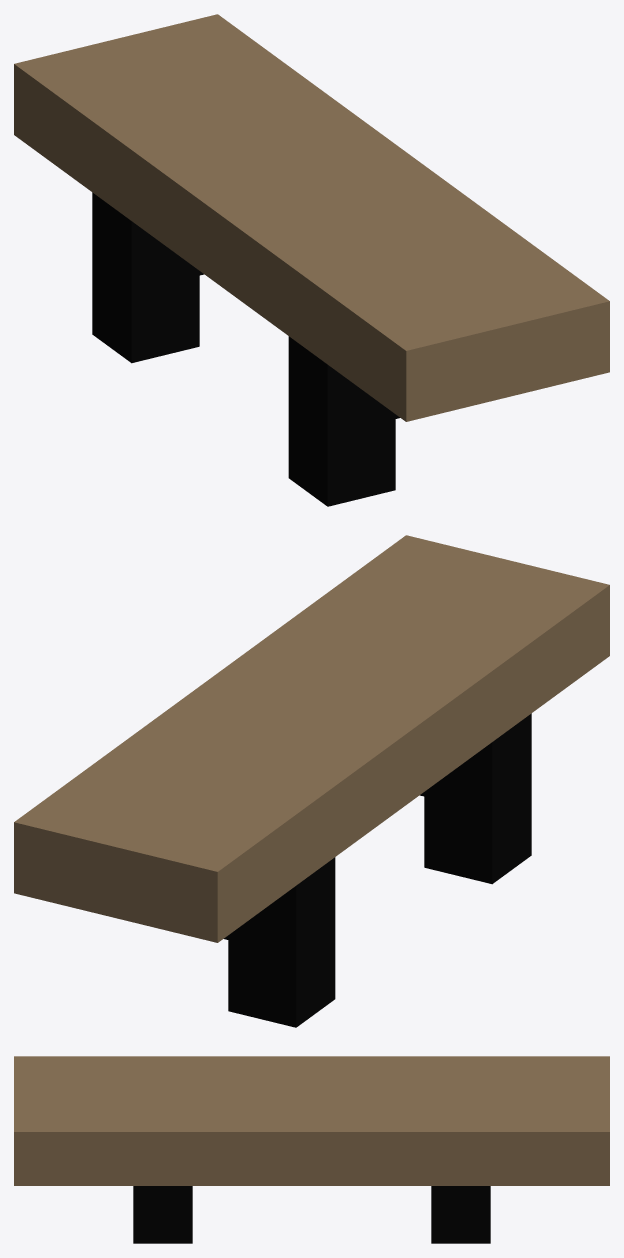
The model's file is shelve3.obj.
3 renders of one model, top to bottom at view 1: azimuth 30°, elevation 25°; view 2: azimuth 150°, elevation 25°; view 3: azimuth 270°, elevation 25°, orthographic. The views are drawn at different scales.
Visible parts, largest first — view 1: shelve3; view 2: shelve3; view 3: shelve3.
Part boxes in pixels (x1,y1,x2,y2): shelve3: (14, 14, 609, 506); shelve3: (14, 535, 609, 1027); shelve3: (14, 1056, 609, 1243).
Bounding box in the file's own units: 3 × 3 × 10.
